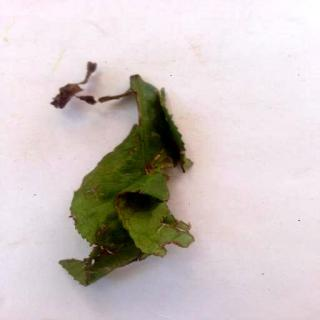Brown Blight: (50, 64, 198, 284)
